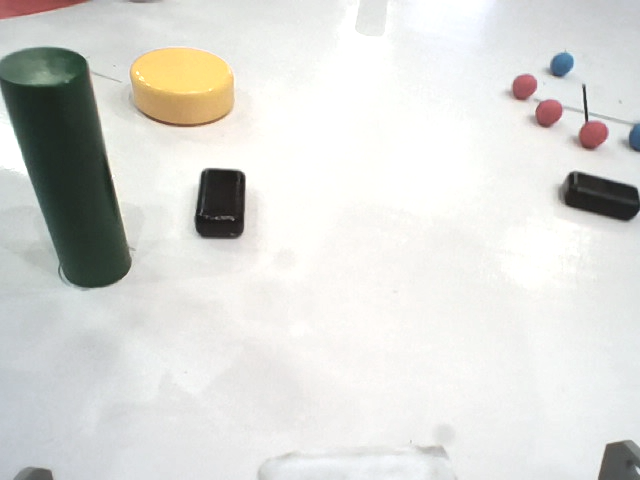black: (197, 165, 245, 243), (563, 170, 638, 219)
blue: (549, 50, 573, 77), (629, 122, 640, 150)
red: (507, 67, 537, 100), (579, 118, 608, 150), (534, 99, 562, 128)
yellow: (129, 36, 246, 129)
zhuzi: (1, 46, 135, 289)
